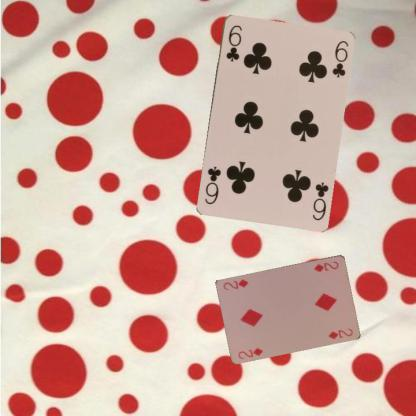2d: (235, 345, 264, 360), (311, 259, 340, 273)
6c: (310, 179, 330, 221), (223, 22, 243, 63)
